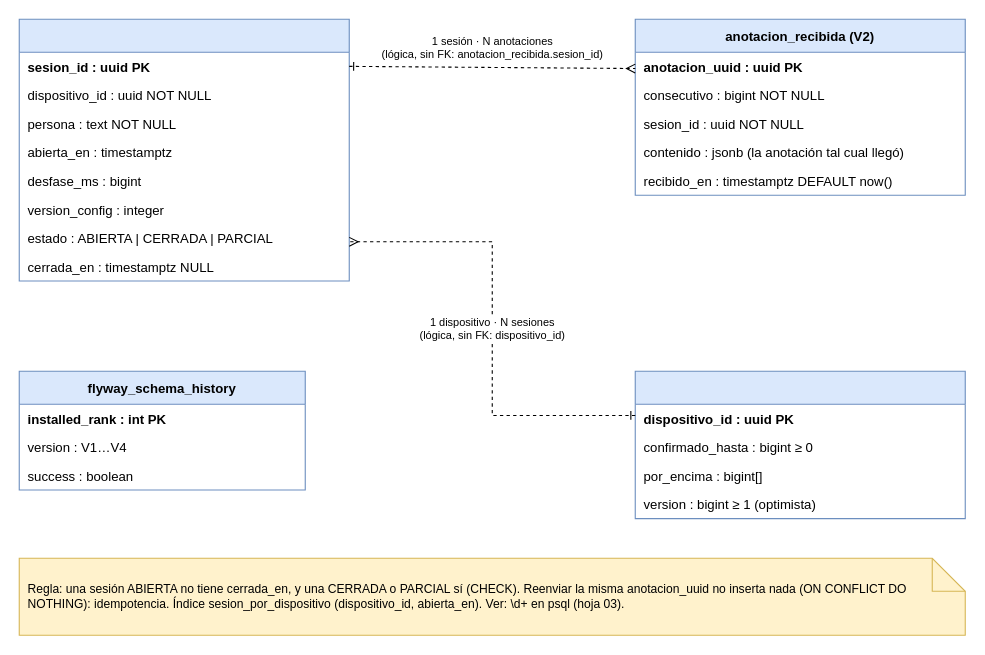
Image size: 985x655. Some labels were removed from this diagram. Here are the shapes that lost their labels. From the top down, the box of each, then its label:
(18, 18, 349, 281): sesion_sincronizacion (V4)
(634, 370, 965, 519): avance_dispositivo (V3)
